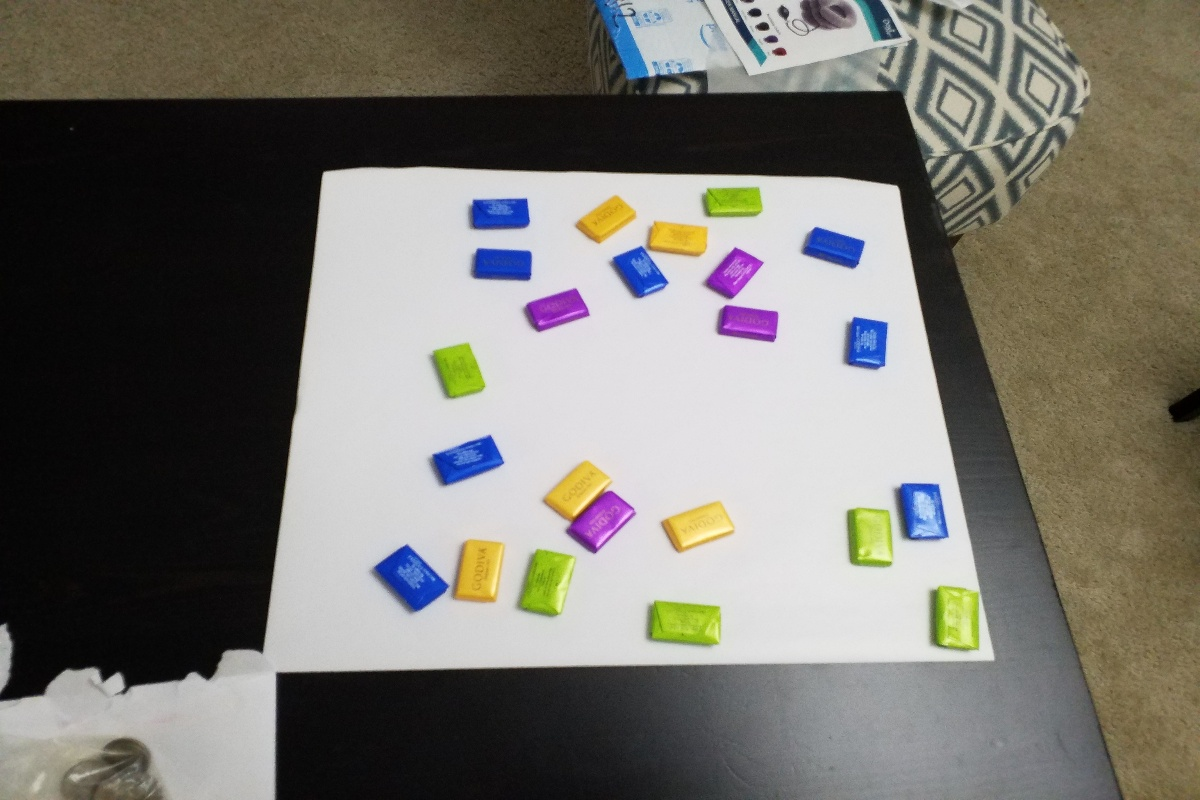chocolate_blue: (363, 531, 451, 621), (427, 436, 514, 492), (894, 476, 954, 553), (838, 306, 897, 379), (607, 244, 675, 305), (799, 224, 875, 277), (463, 240, 546, 288), (460, 193, 538, 235)
chocolate_green: (640, 595, 728, 655), (920, 574, 985, 655), (835, 495, 900, 575), (426, 338, 495, 412), (515, 544, 578, 622), (692, 184, 769, 225)
chocolate_purple: (518, 280, 600, 337), (567, 491, 638, 556), (705, 243, 765, 303), (711, 302, 788, 348)
chocolate_yellow: (653, 492, 746, 558), (447, 522, 508, 611), (541, 456, 612, 522), (569, 192, 642, 245), (643, 217, 715, 260)
